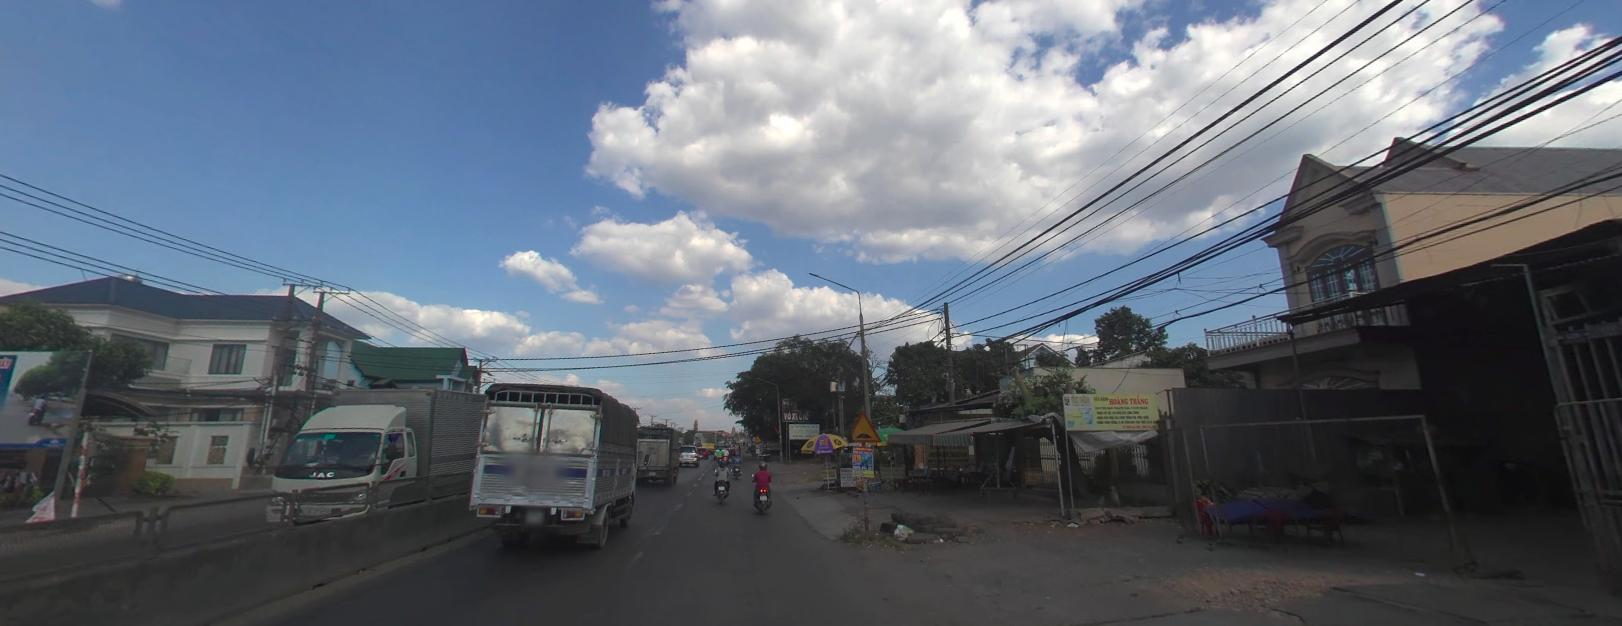Nguy hiem: (846, 410, 882, 444), (753, 434, 762, 442)
